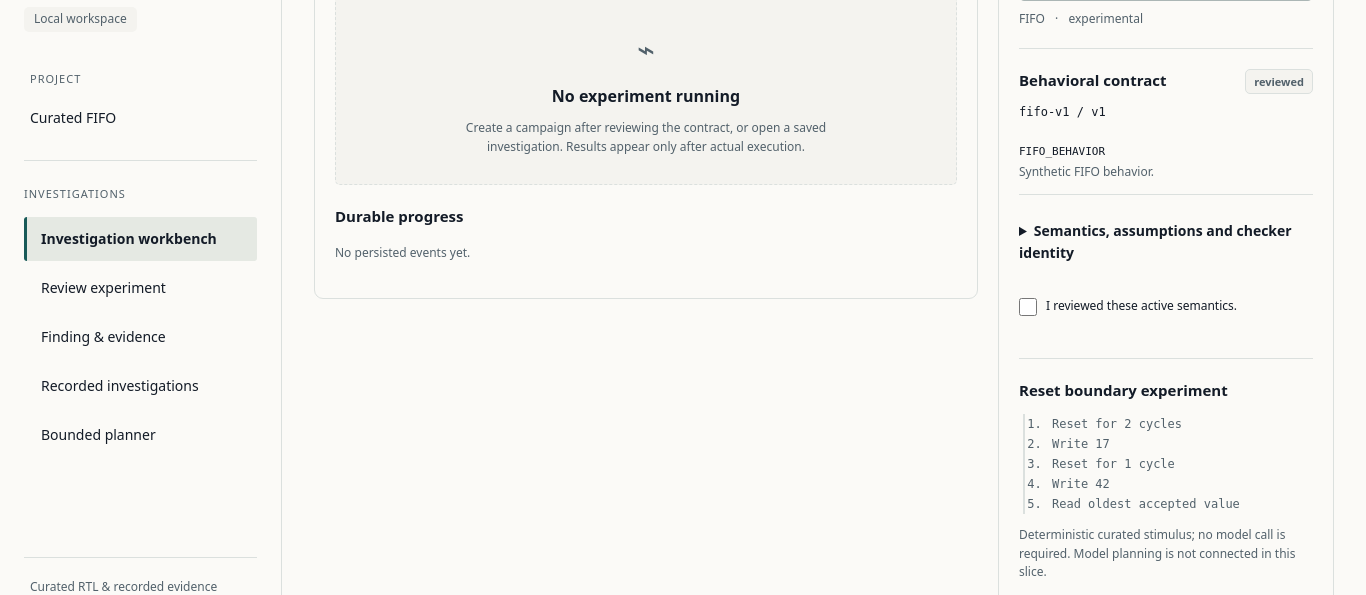
allows creation from the current App lifetime after Strict Mode effect rehearsal
(page scrolled)
Expected: the text "Synthetic FIFO behavior." is shown, x1=1019 y1=163 x2=1154 y2=180
Click the checkbox: {"x": 1028, "y": 307} x1=1019 y1=298 x2=1037 y2=316
(page scrolled)
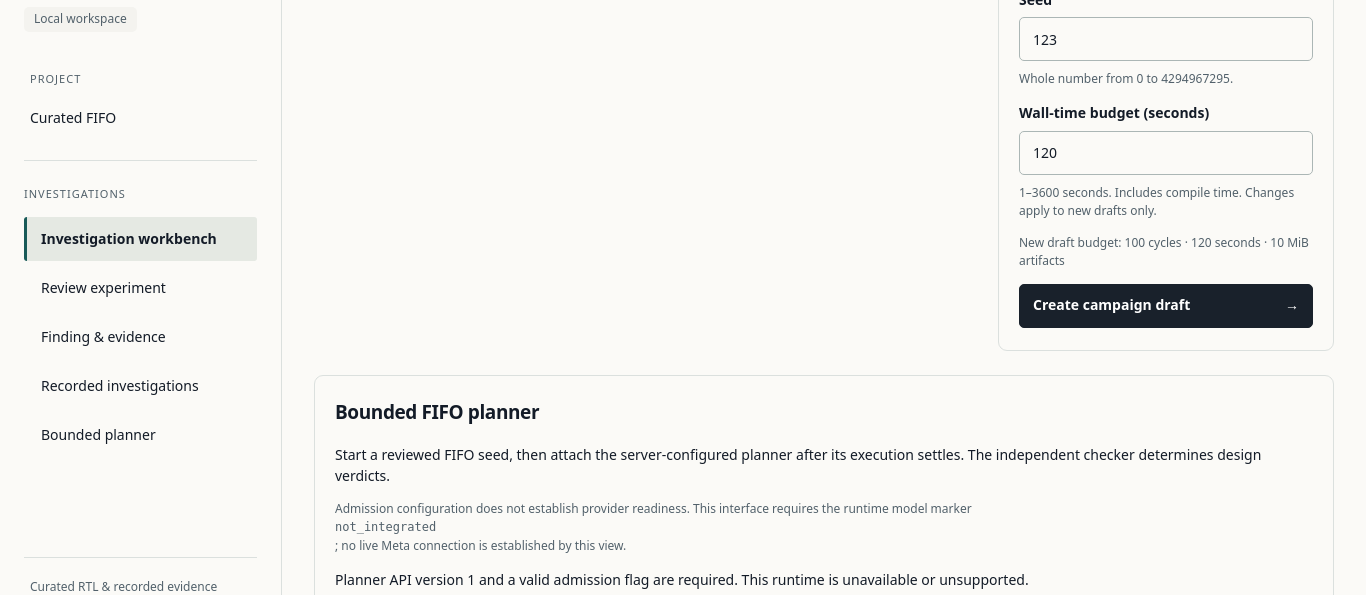
Click the button "Create campaign draft →": {"x": 1166, "y": 306} x1=1019 y1=284 x2=1313 y2=328
(page scrolled)
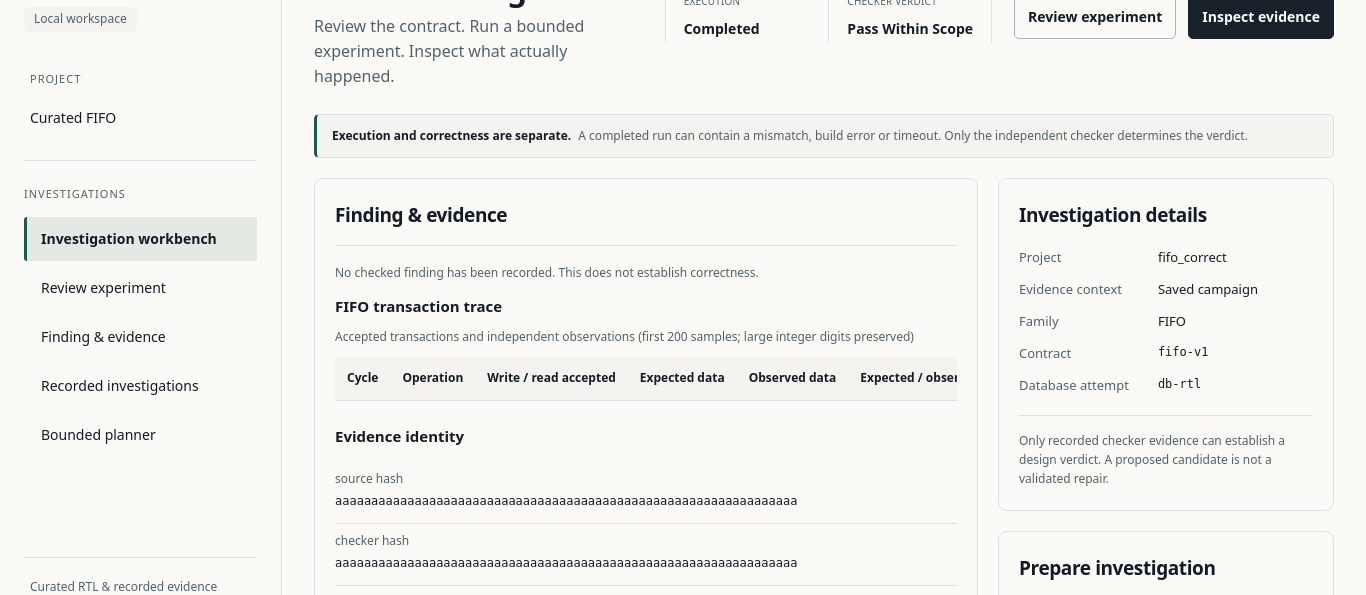
Result: the heading "FIFO transaction trace" is shown at x1=335 y1=296 x2=502 y2=316
